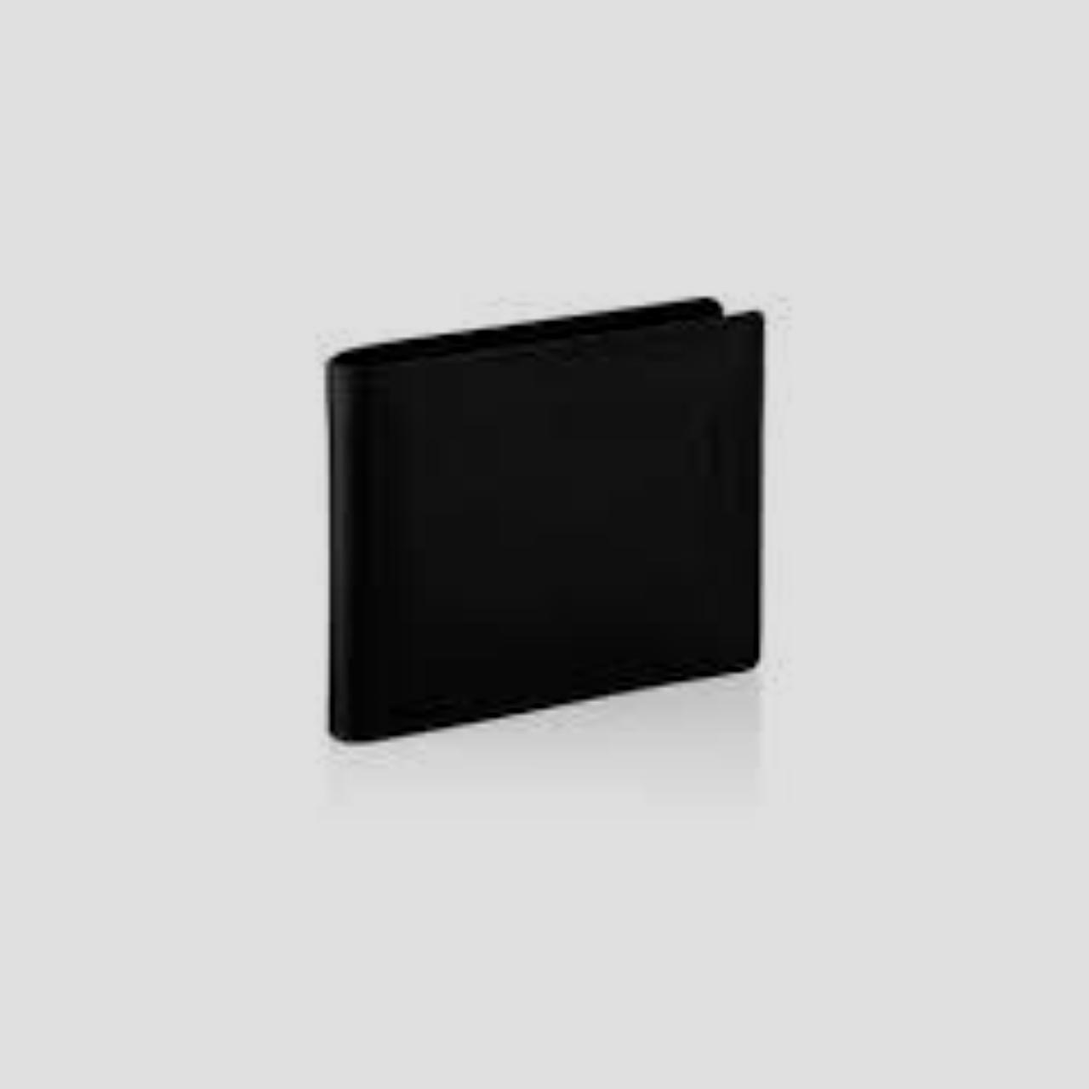wallet: (256, 208, 901, 876)
